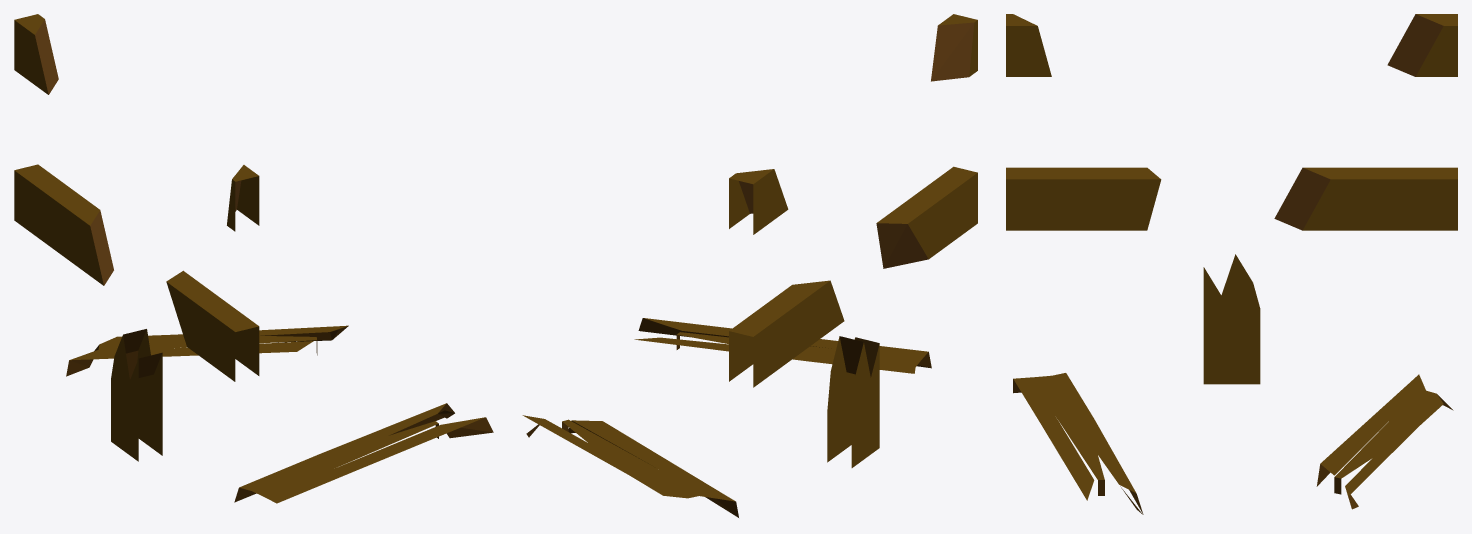
File: obj_broken_fence_2_0.obj
The picture shows the model from 3 angles, left to right: view 1: azimuth 30°, elevation 25°; view 2: azimuth 150°, elevation 25°; view 3: azimuth 270°, elevation 25°; orthographic projection. The views are drawn at different scales.
Size of the model in its own units: 0.7734 by 0.875 by 1.
